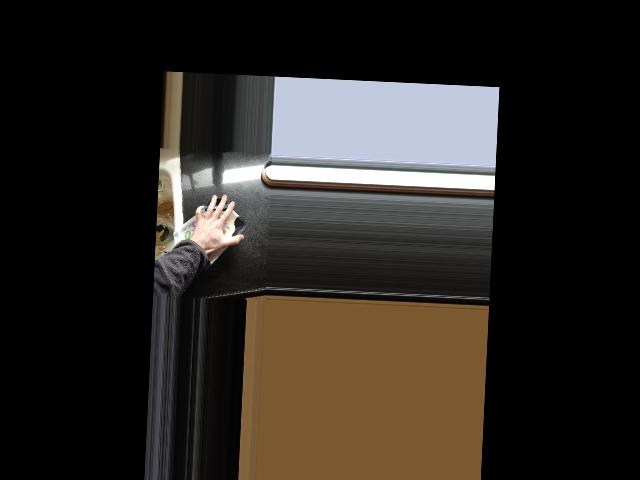cheese: (169, 192, 248, 271)
